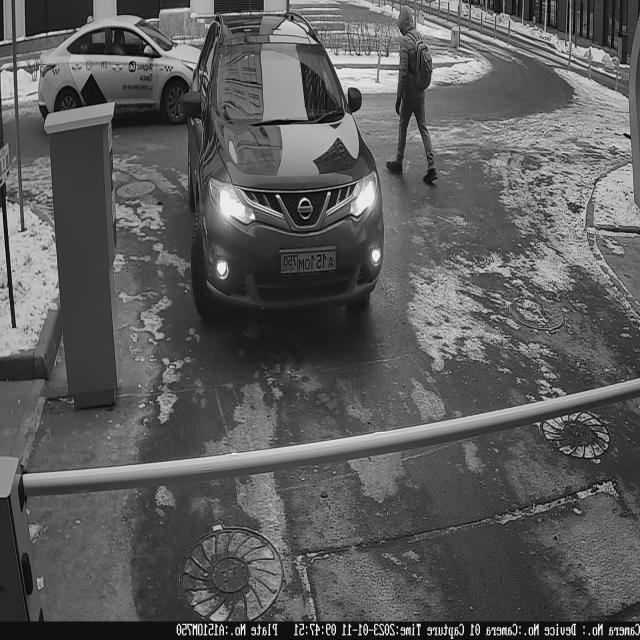car-plate-numbers: (278, 242, 340, 282)
